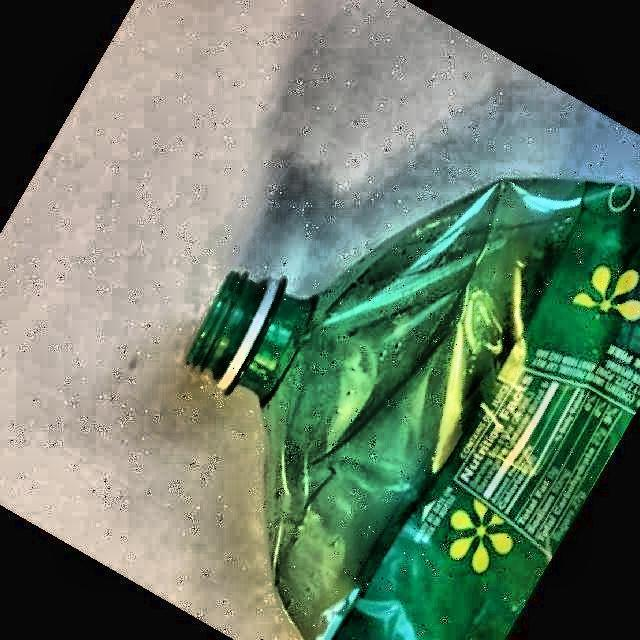plastic: (186, 179, 640, 640)
